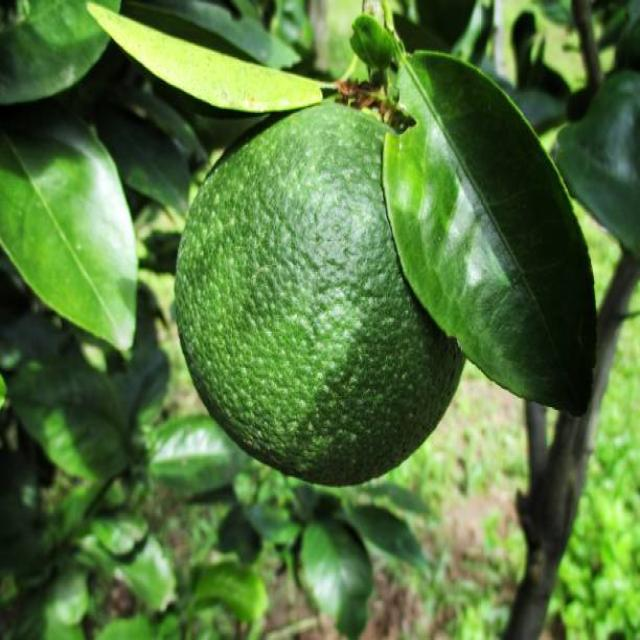Unripe: (177, 94, 466, 487)
